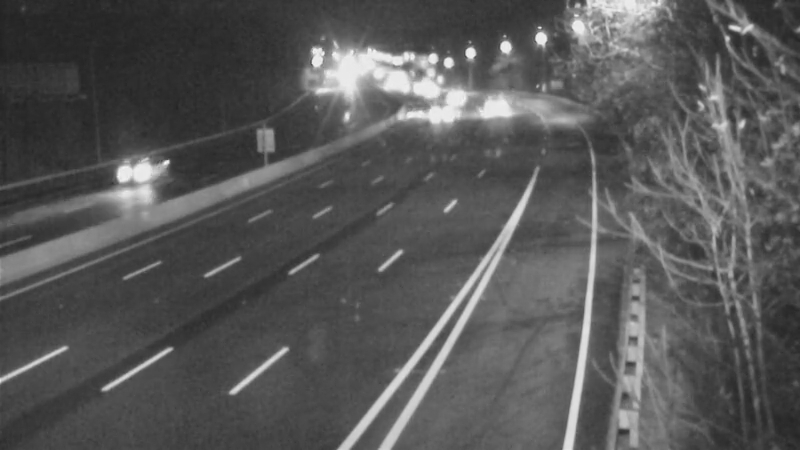vehicle: (95, 125, 175, 205), (403, 65, 453, 115), (428, 70, 478, 120), (463, 86, 513, 136), (380, 86, 430, 136), (412, 88, 462, 138)
